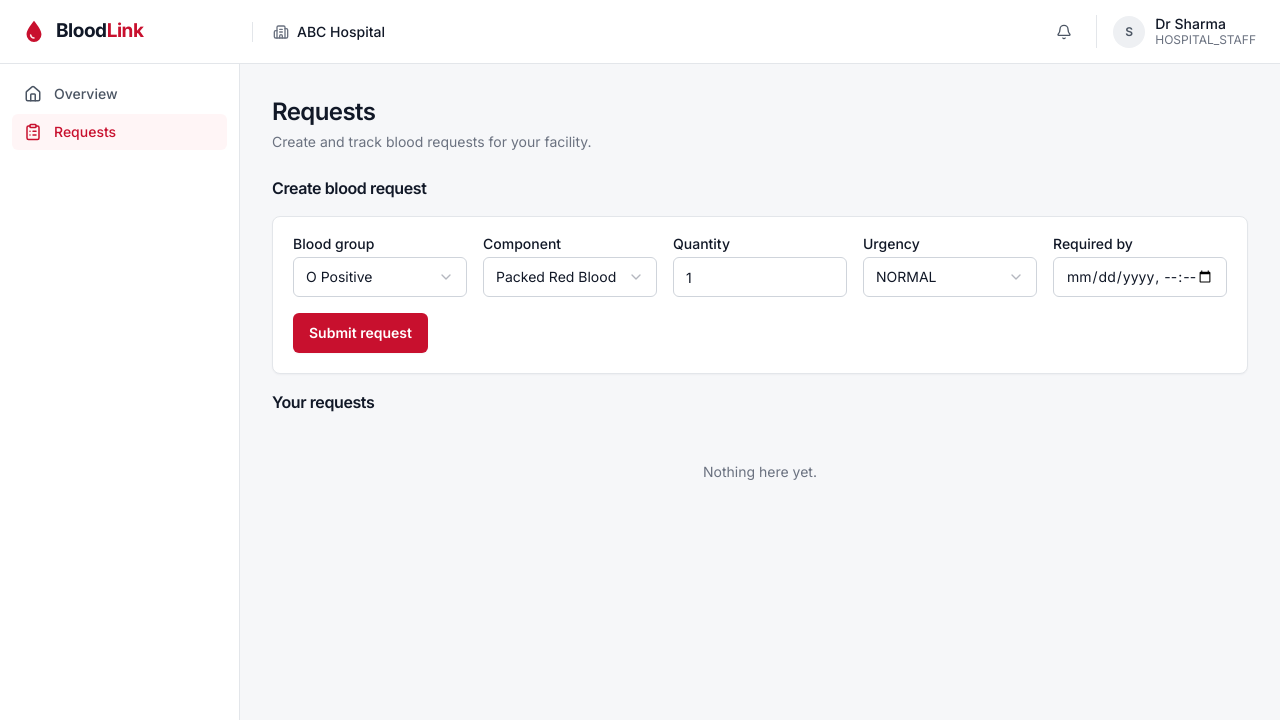
Test: the routine request form (HOSPITAL_STAFF / DOCTOR) › shows the backend error message when submission fails
Expected: the button "Submit request" is shown, [293, 313, 428, 353]
Type "2020-01-01T10:00" into the field labelled "Required by".
click(1140, 277); type("2020-01-01T10:00")  # box [1053, 257, 1227, 297]
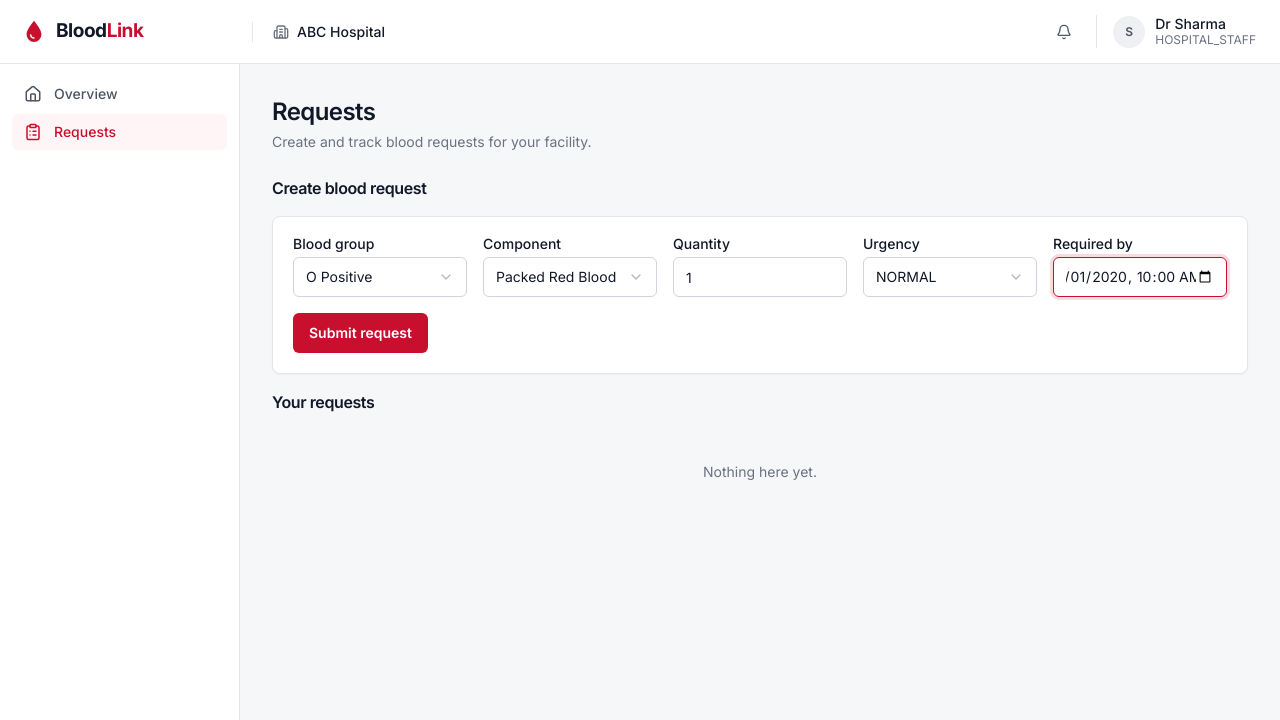
Click the button "Submit request".
click(360, 333)  # box [293, 313, 428, 353]
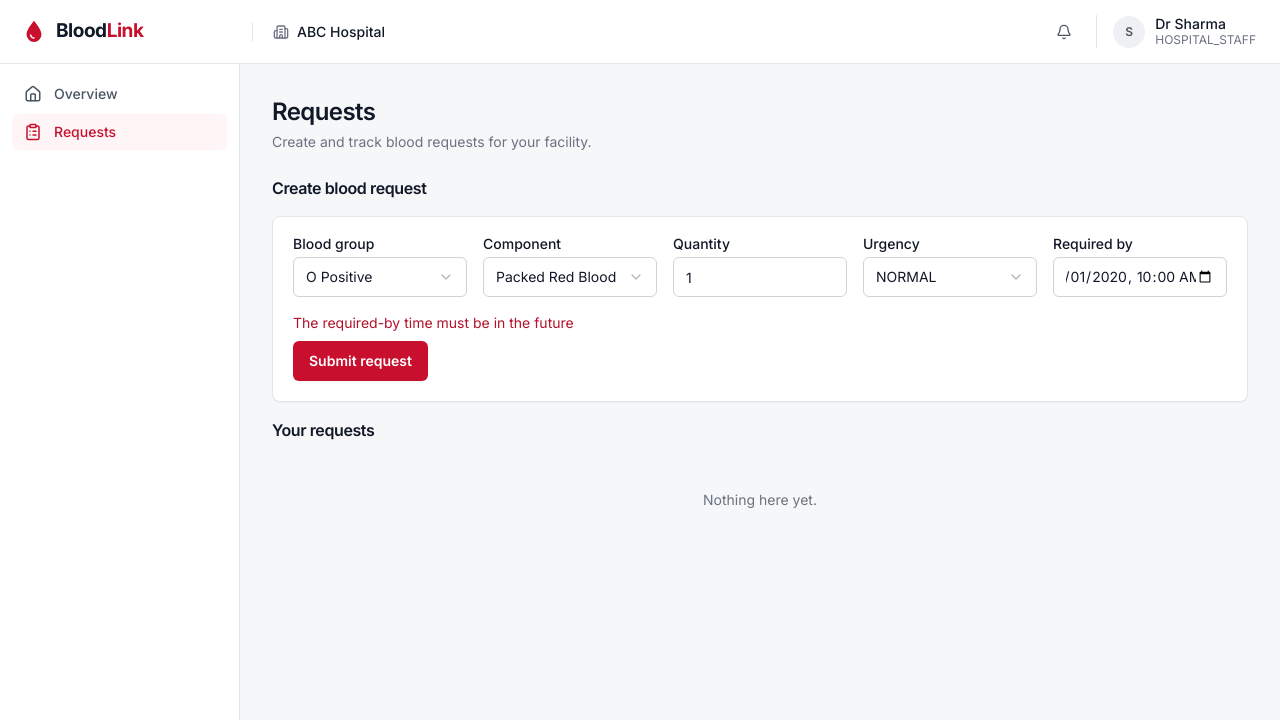
Result: the text "The required-by time must be in the future" is shown at [293, 314, 574, 331]
